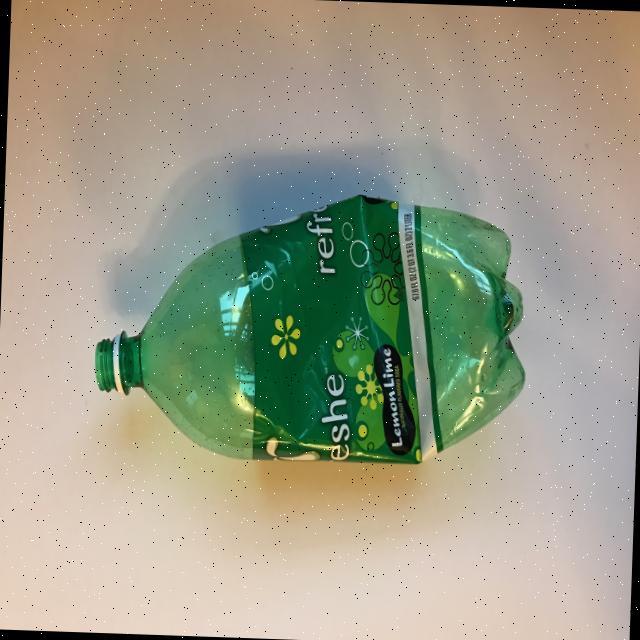plastic: (91, 184, 531, 471)
